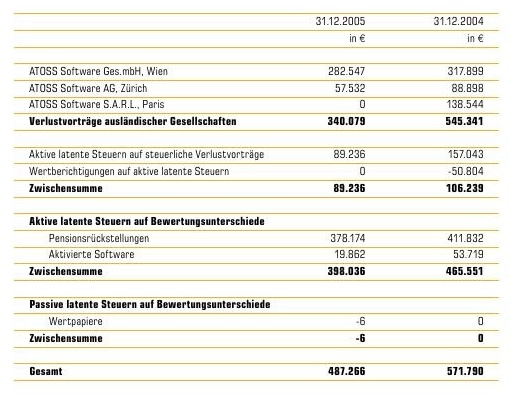table: (0, 0, 515, 396)
